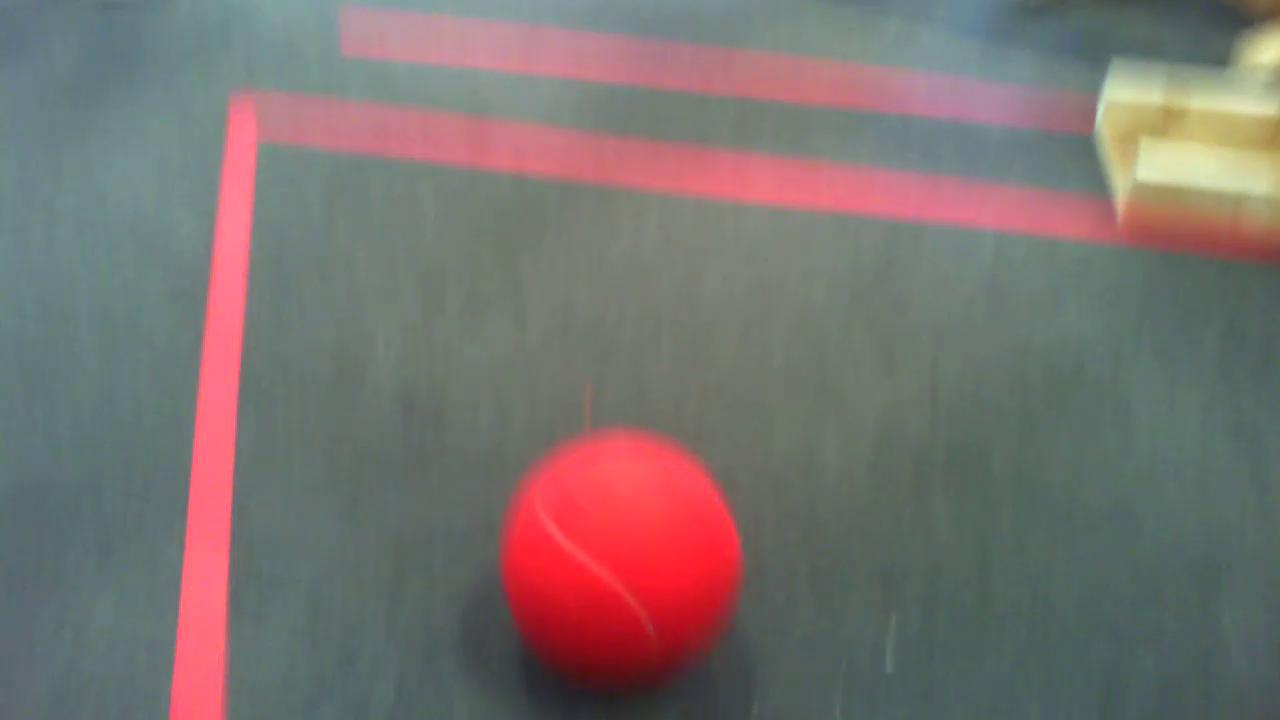Red_Ball: (485, 426, 762, 715)
